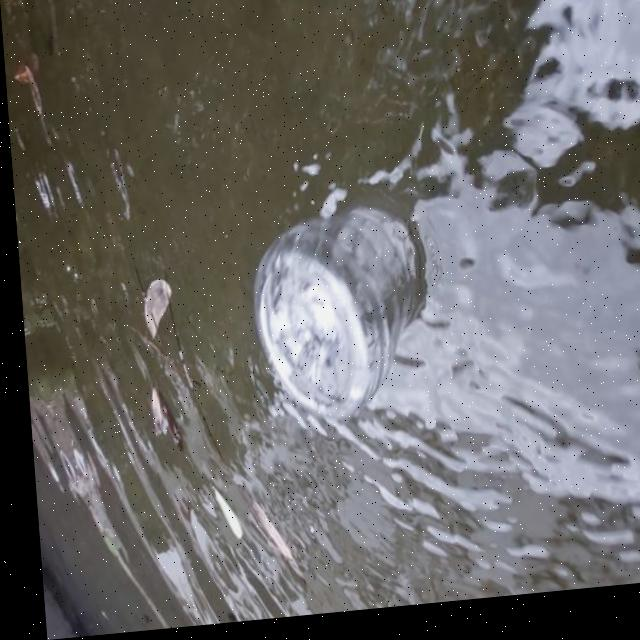leaf: (4, 18, 67, 144), (135, 379, 184, 464), (120, 265, 176, 338)
waterbottle: (207, 167, 454, 466)
